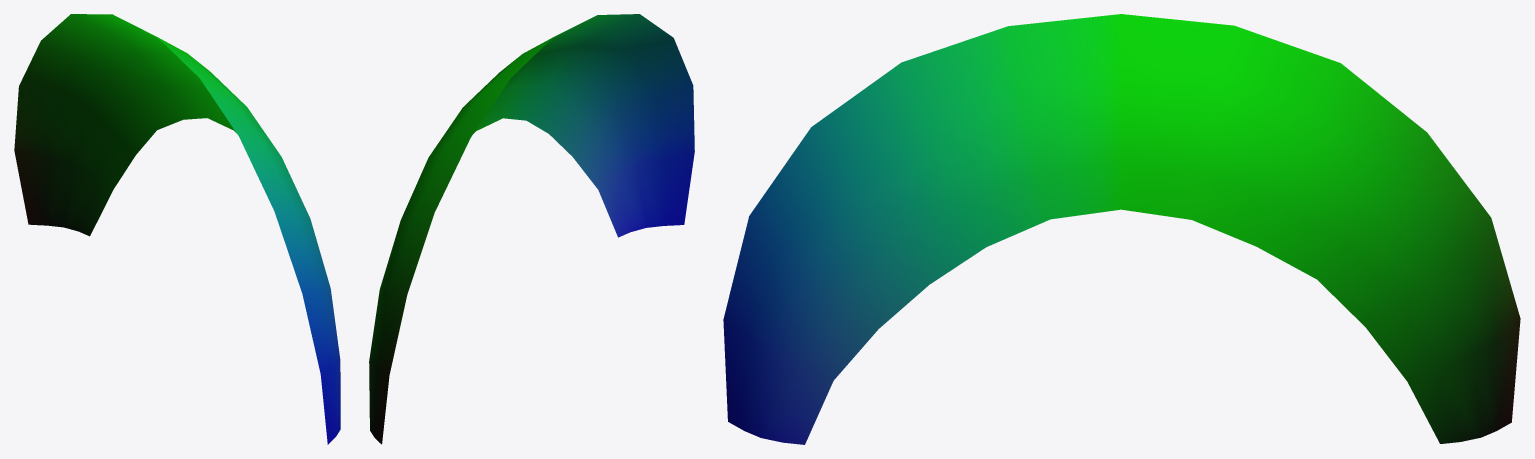
The model's file is uni_arc.fbx.
The picture shows the model from 3 angles, left to right: view 1: azimuth 30°, elevation 25°; view 2: azimuth 150°, elevation 25°; view 3: azimuth 270°, elevation 25°; orthographic projection. The views are drawn at different scales.
Visible parts, largest first — view 1: uni_arc; view 2: uni_arc; view 3: uni_arc.
Boxes of the visible parts, x1=… form: uni_arc: x1=14, y1=14, x2=340, y2=444; uni_arc: x1=369, y1=14, x2=694, y2=444; uni_arc: x1=723, y1=14, x2=1520, y2=444.
Bounding box in the file's own units: 12812 × 1952 × 7004.
